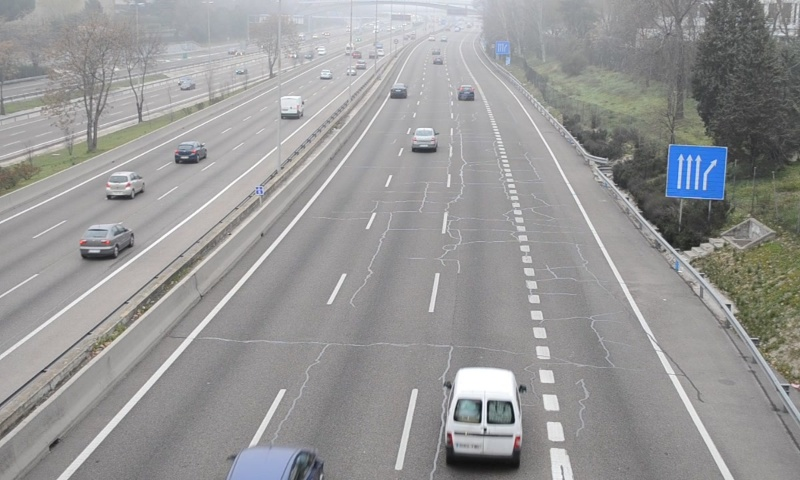car: (411, 126, 437, 151), (457, 84, 476, 102), (390, 83, 408, 100)
van: (444, 368, 523, 465)
